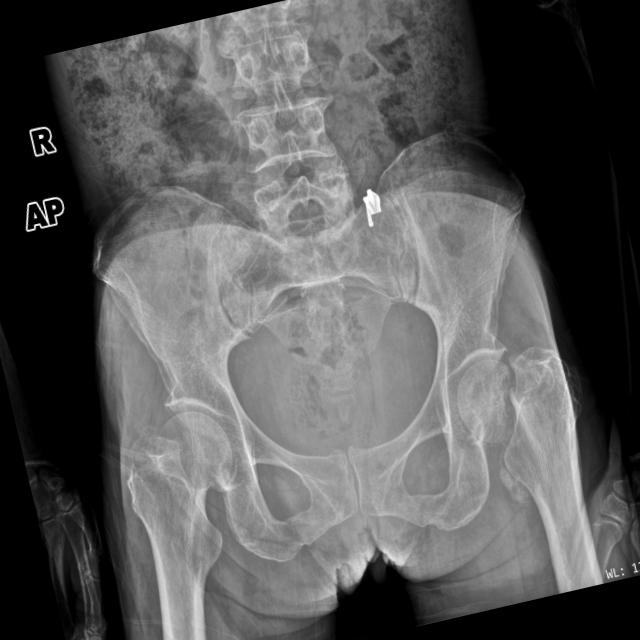left-neck: (504, 347, 592, 544), (457, 358, 515, 443)
normal-right: (125, 411, 232, 615)
